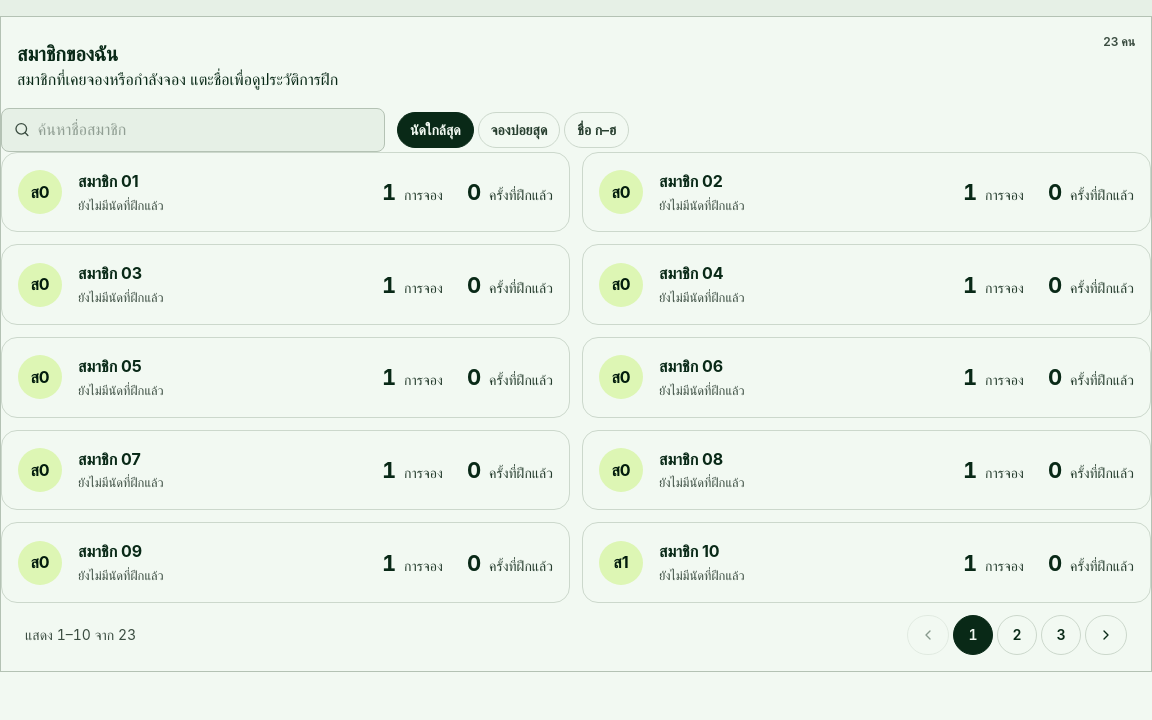
Test: Trainer members and reviews › pages a long member list ten at a time
The width and height of the screenshot is (1152, 720).
Expected: the text "แสดง 1–10 จาก 23" is shown, top-left (25, 624), bottom-right (136, 646)
Click the button named "หน้า 3" at (1061, 635), box top-left (1041, 615), bottom-right (1081, 655)
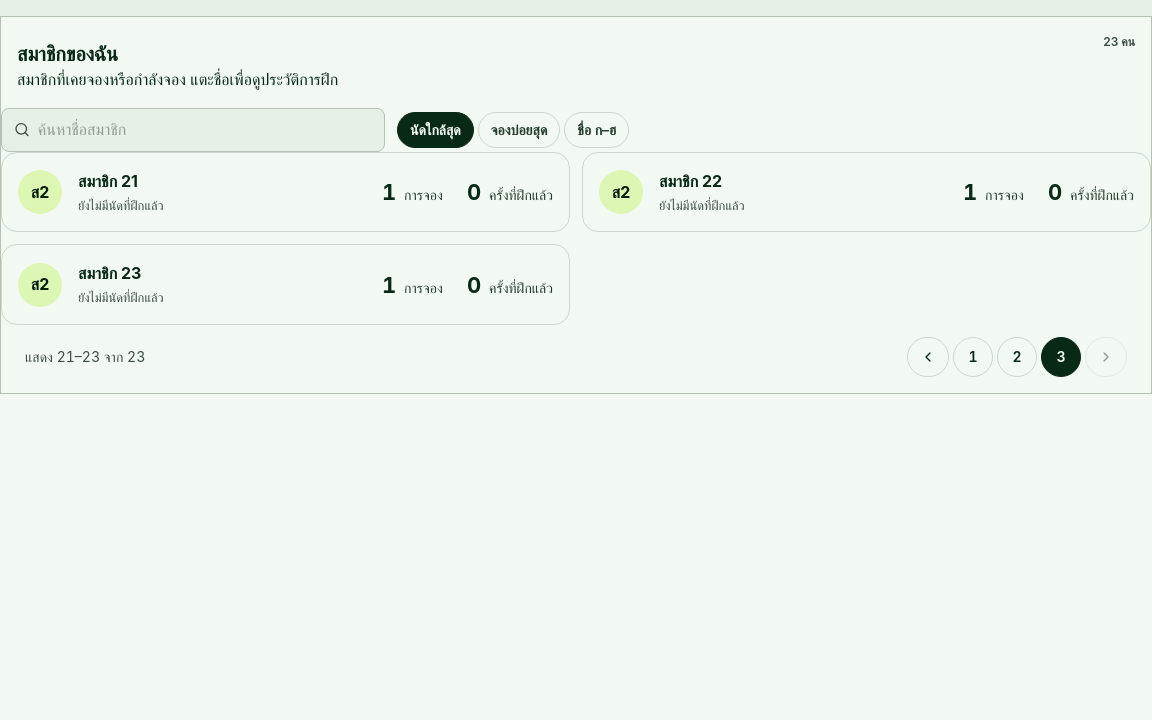
Expected: the number of list items is 3, top-left (1, 152), bottom-right (570, 232); top-left (582, 152), bottom-right (1151, 232); top-left (1, 244), bottom-right (570, 325)
Expected: the button named "หน้าถัดไป" is disabled, top-left (1085, 337), bottom-right (1127, 377)
